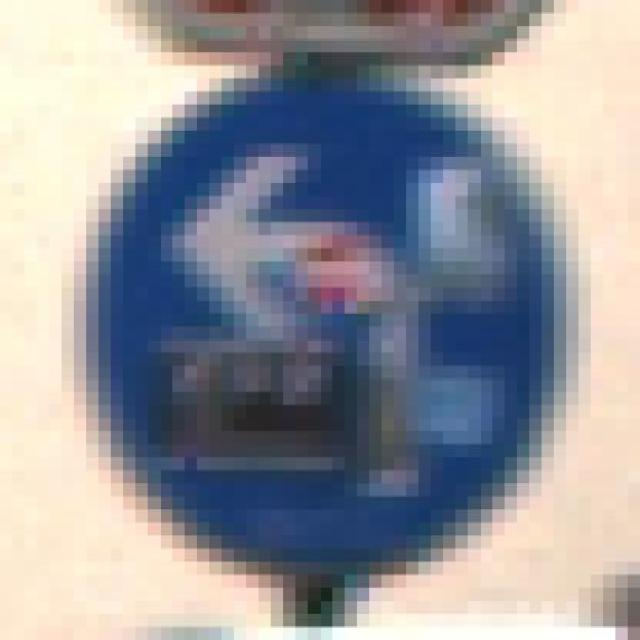Turn left ahead: (74, 65, 566, 588)
